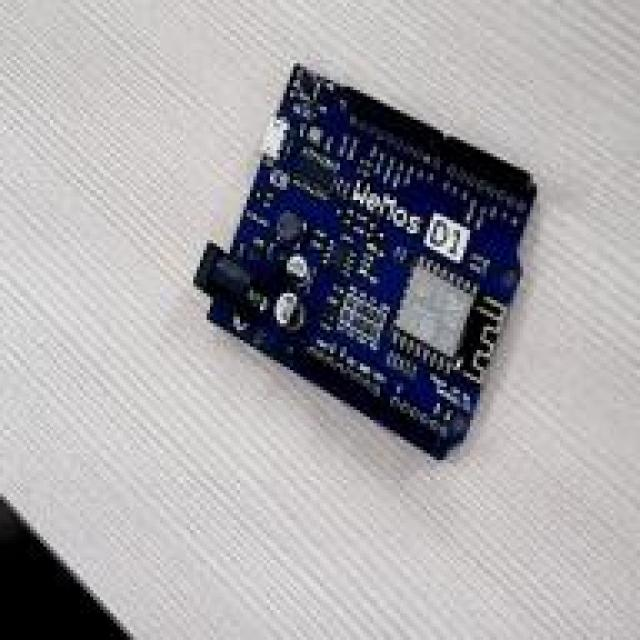Wemos: (194, 64, 534, 454)
